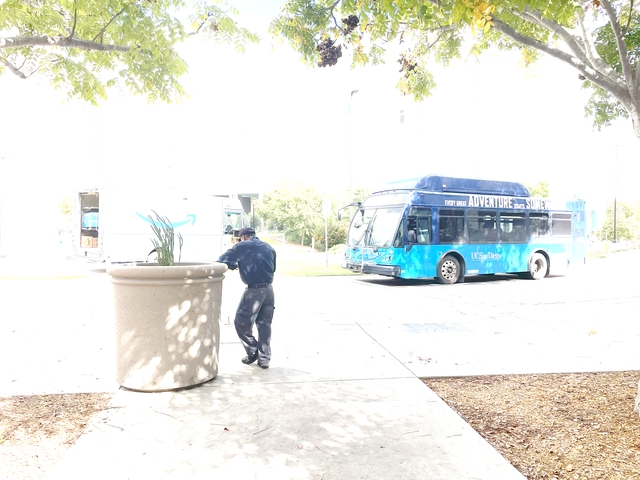Car: (338, 173, 597, 286), (70, 179, 265, 279)
